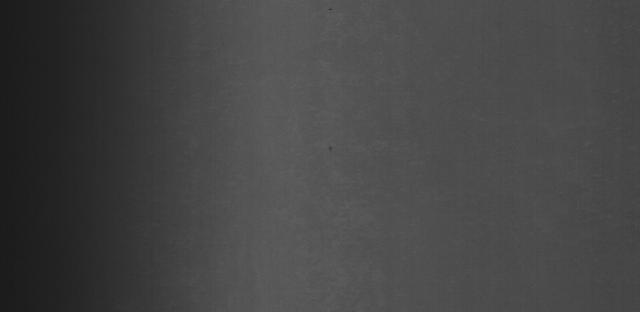inclusion: (318, 140, 338, 159)
